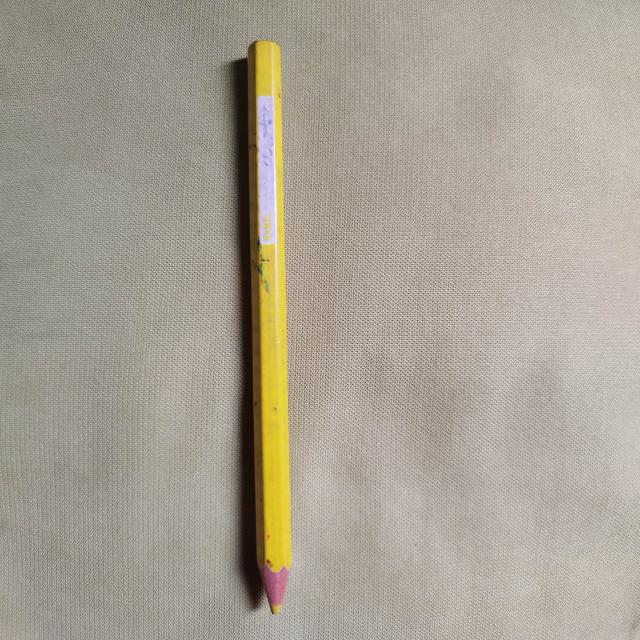pencil: (247, 39, 290, 614)
